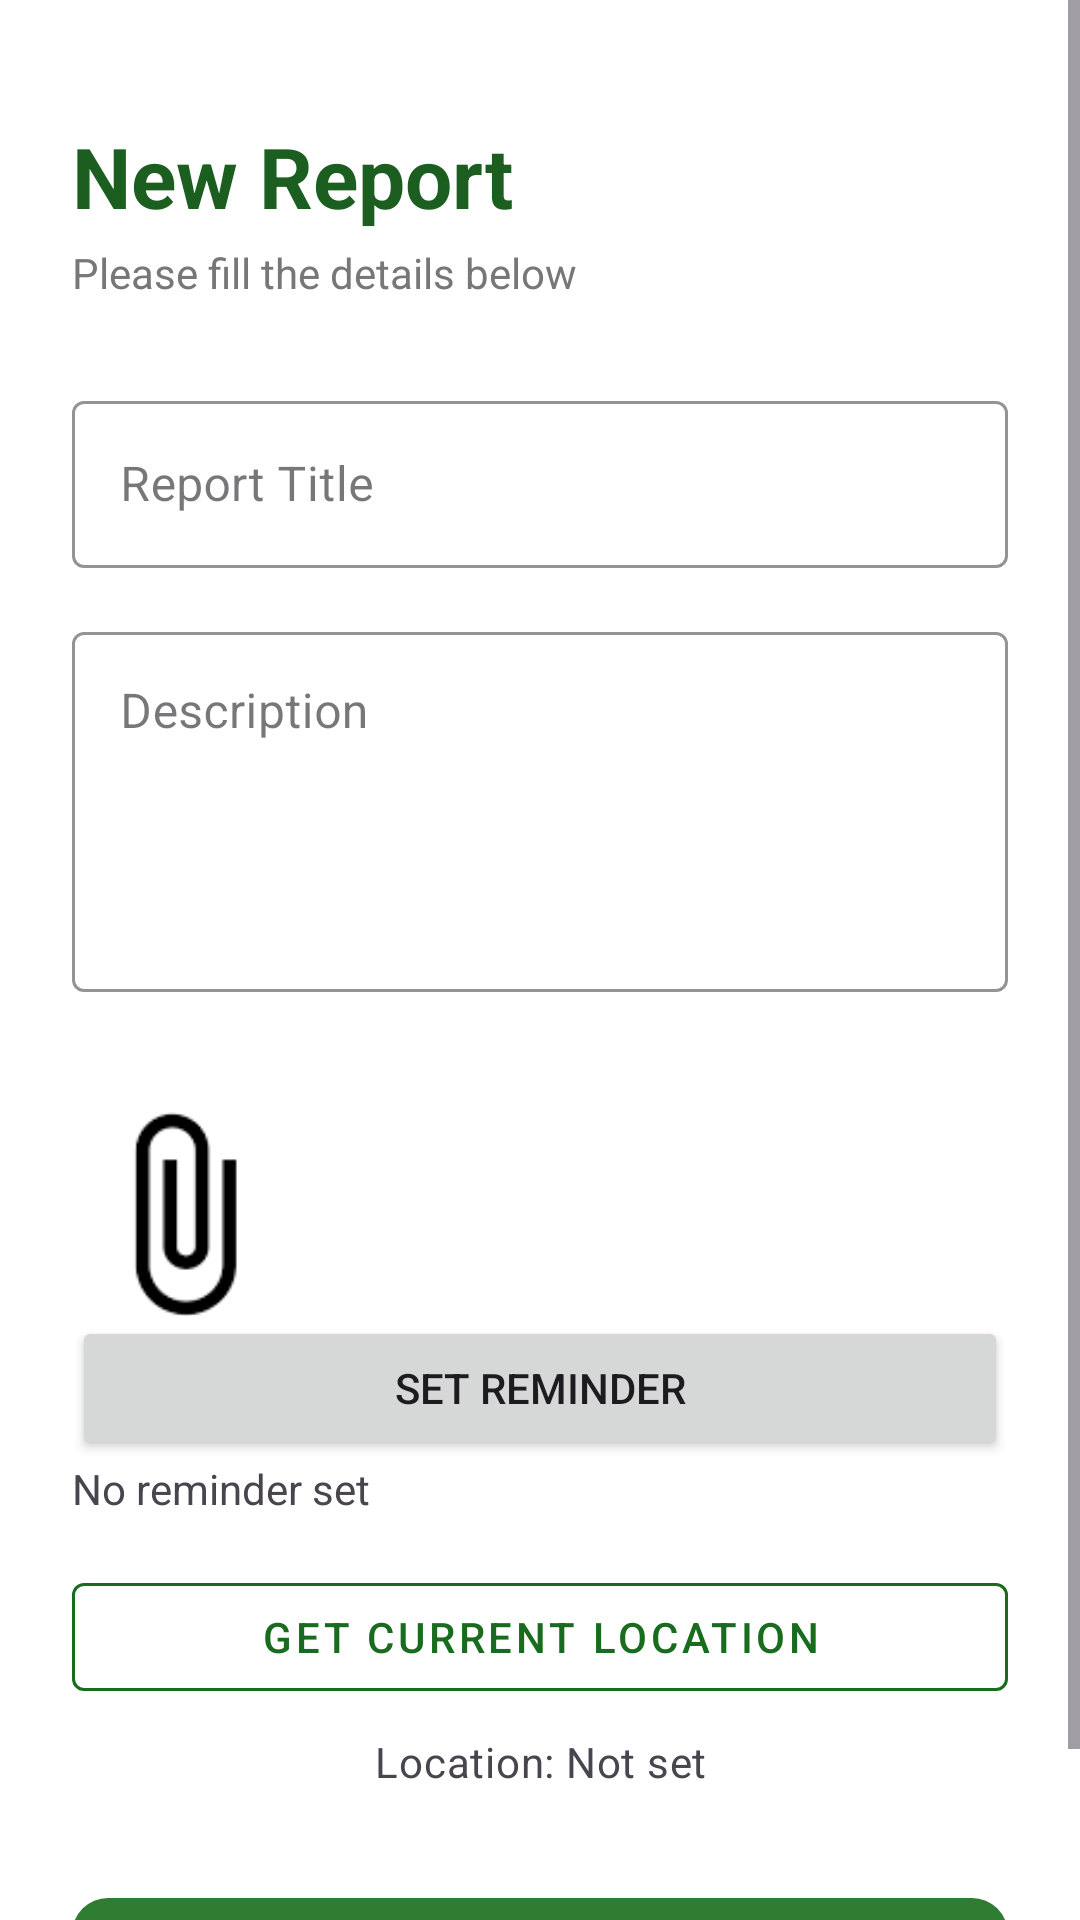

Locate icon controls on the screen. Image size 1080w x 1920h, boxes as (x1, y1, x2, y2).
attach file: (135, 1113, 237, 1316)
